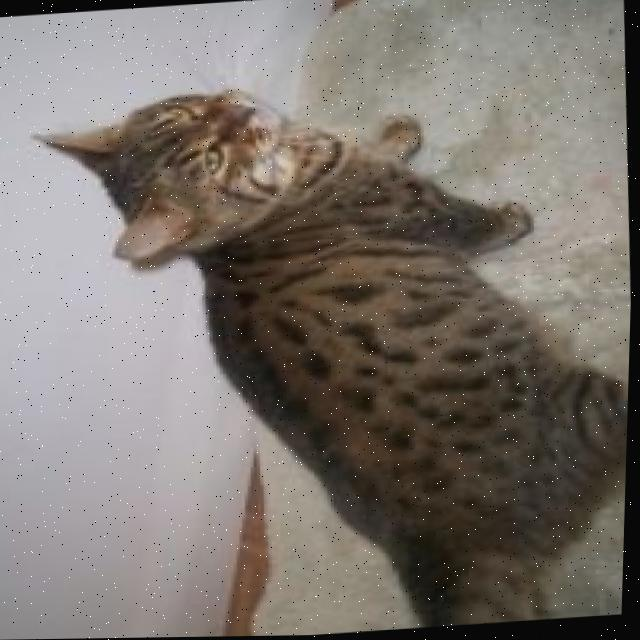Bengal: (7, 52, 639, 640)
